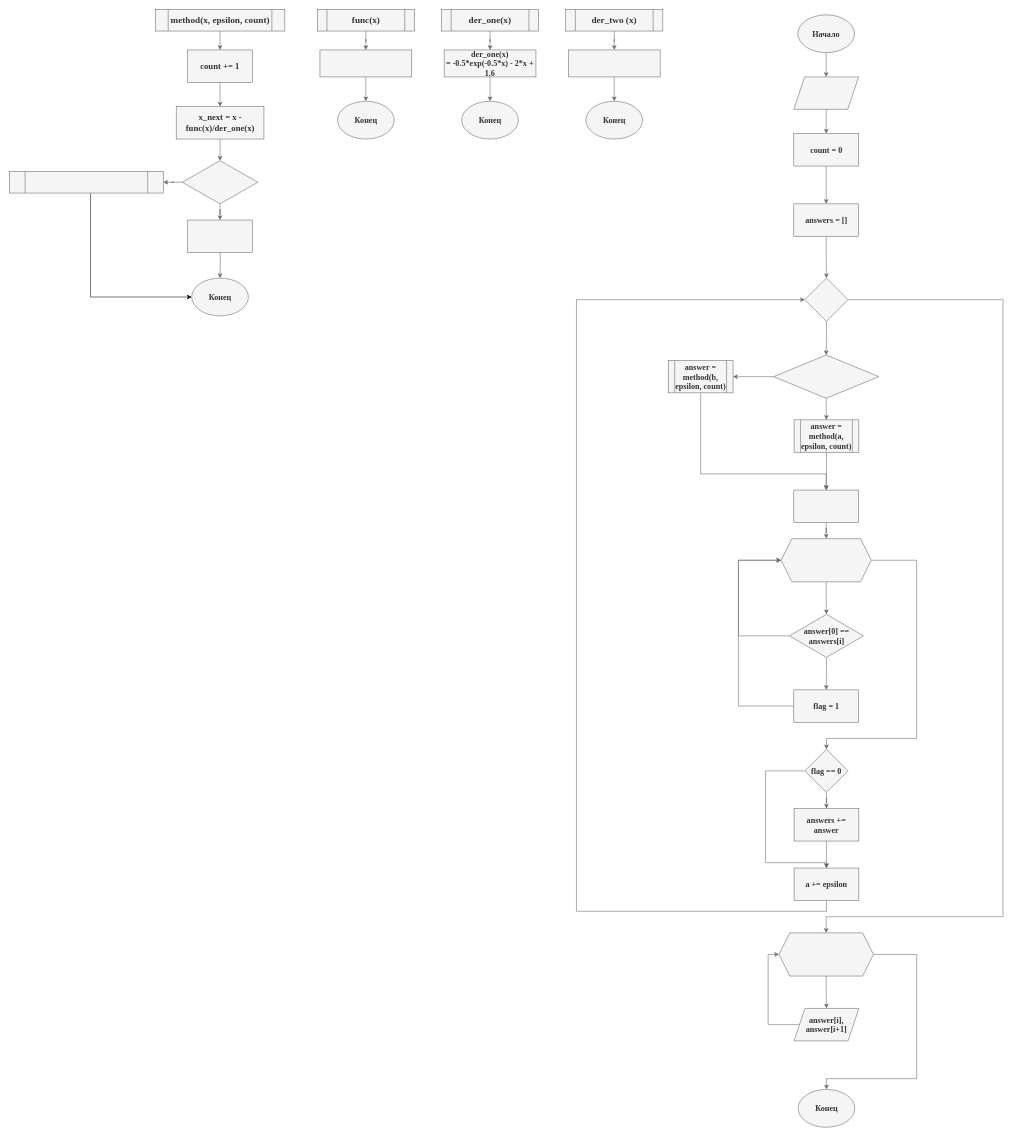
The diagram is 1017 pixels wide and 1137 high, and some of its shapes have lost their labels. Here are the shapes that lost their labels. From the top down, the box of each, then its label:
(319, 49, 412, 77): func(x) = exp(-0.5*x) - (x - 0.8)^2 + 0.1
(568, 49, 660, 77): der_two(x) = 0.25*math.exp(-0.5*x) - 2
(793, 76, 859, 109): a, b, epsilon
(9, 171, 163, 193): method(x_next, epsilon, count)
(182, 160, 258, 204): |x_next -x| <= epsilon
(187, 220, 252, 252): method(x, epsilon, count) = [ x_next, count]
(804, 278, 848, 321): a < b
(773, 355, 879, 398): func(a)*der_two(a) < 0
(793, 490, 859, 522): flag = 0
(781, 538, 871, 582): i = 0, len(answers), 1
(778, 932, 873, 976): i = 0, len(answers) - 1, 2
